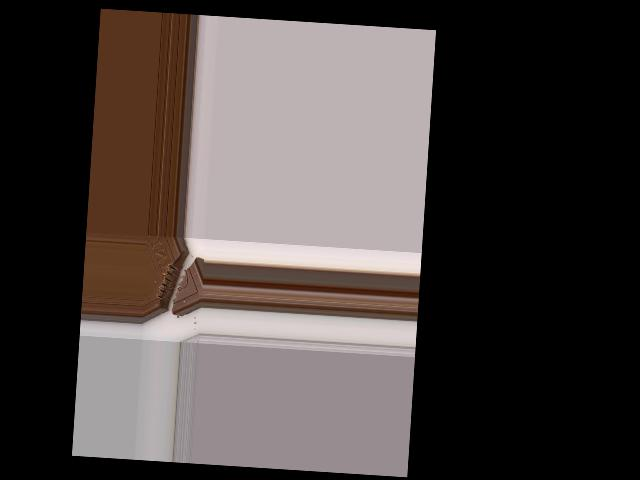chocolate: (143, 236, 206, 328)
